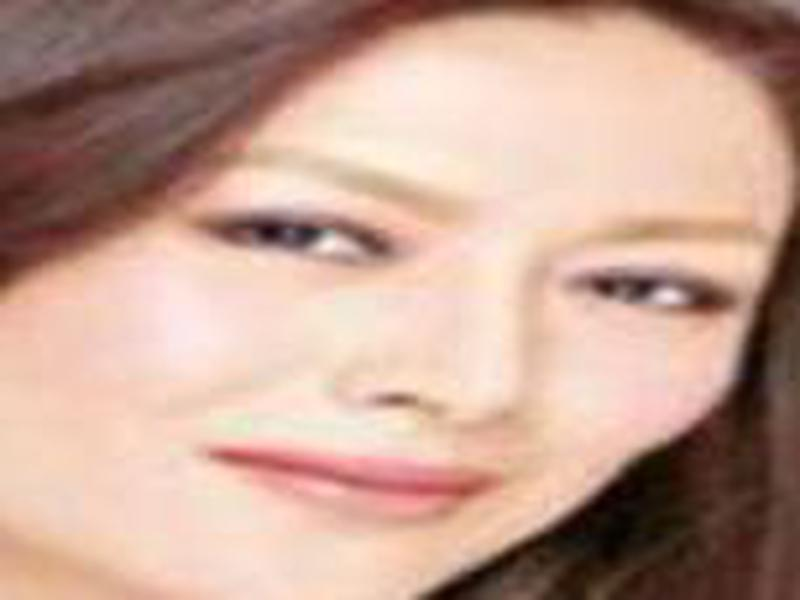without_mask: (16, 18, 783, 600)
